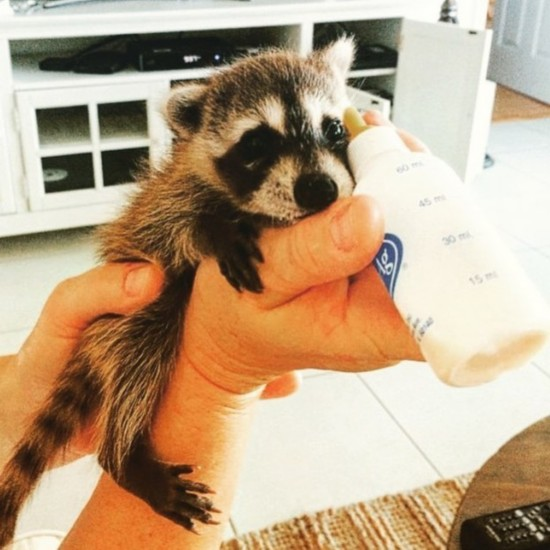raccoon: (4, 33, 369, 535)
